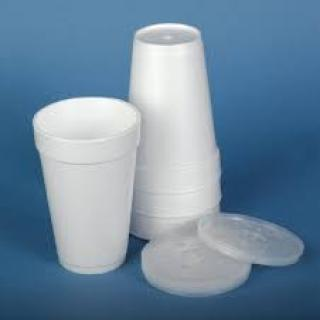PAPER: (126, 21, 219, 244), (31, 95, 139, 272), (130, 20, 222, 194)
